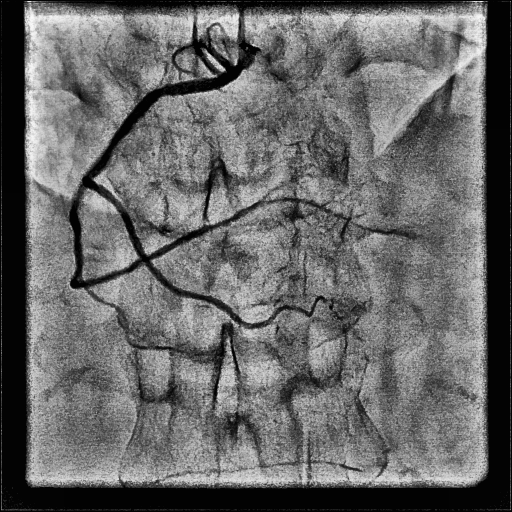pda: (203, 198, 408, 236)
rca: (70, 69, 233, 289)
